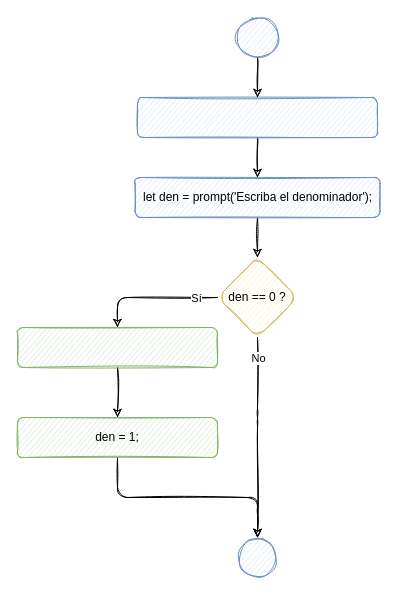
Image size: 398x595. Some labels were removed from this diagram. The box of each missing label's shape, as (x1, y1, x2, y2) in pixels:
alert('No has escrito...');: (16, 326, 218, 368)
let num = prompt('Escriba el numerador');: (136, 96, 378, 138)
